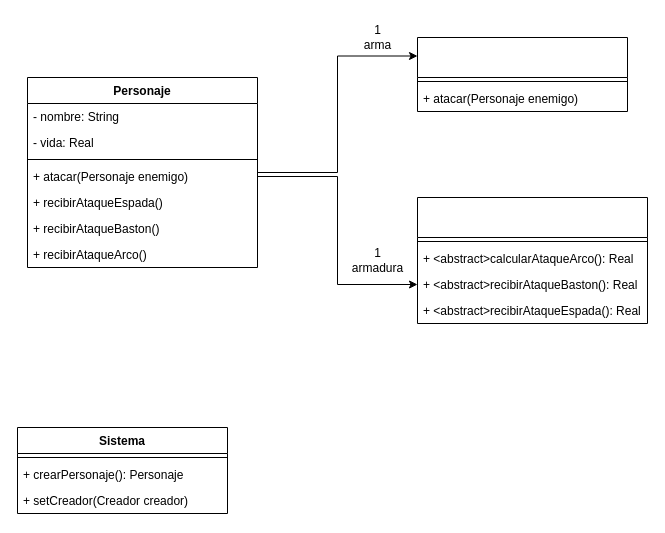
Some shapes in this 665 by 533 pixel diagram are drawn without their labels. Here are the shapes that lost their labels. From the top down, the box of each, then its label:
(416, 36, 628, 112): <abstract> Arma
(416, 196, 648, 324): <abstract> Armadura
